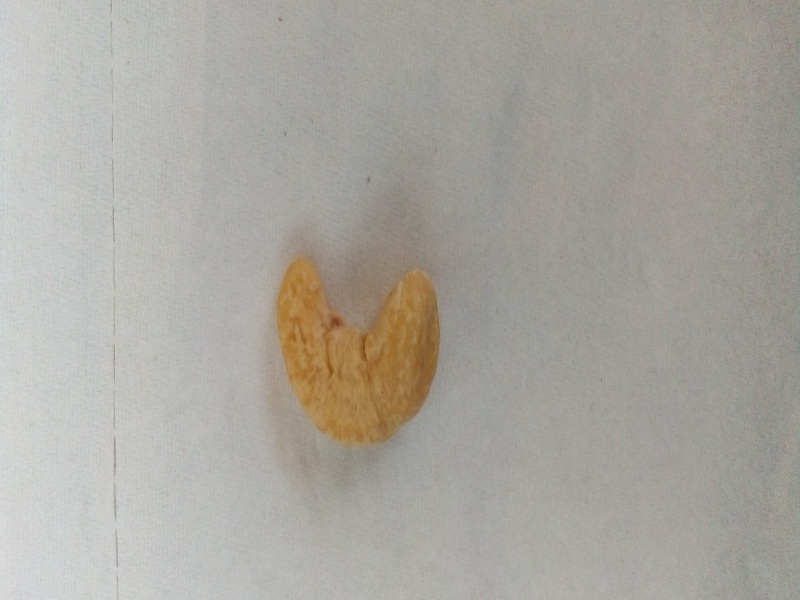cashew: (246, 222, 479, 468)
